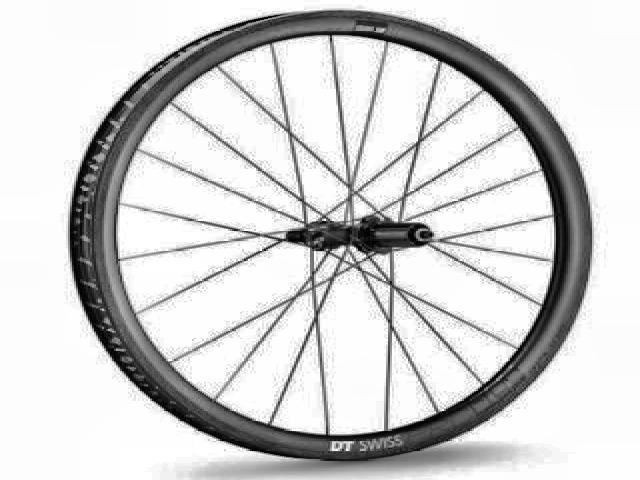wheel: (63, 9, 600, 463)
